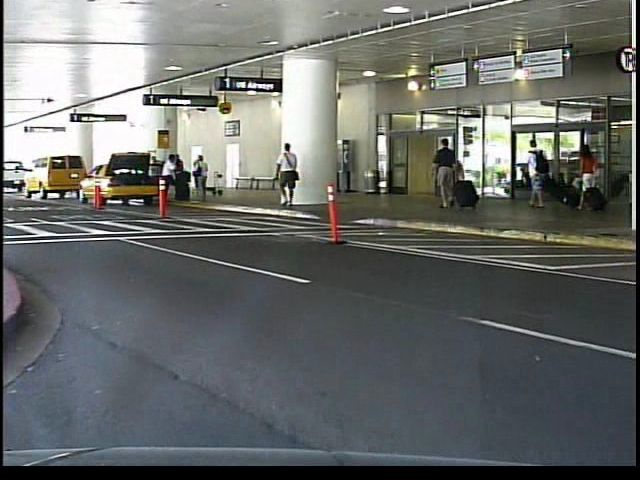person: (521, 137, 558, 217), (575, 133, 607, 220), (432, 135, 466, 211), (274, 140, 305, 212)
